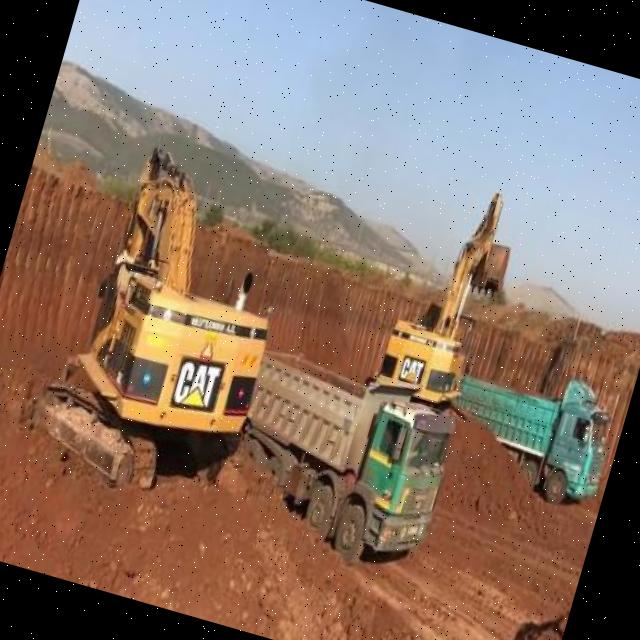Dump Truck: (212, 322, 473, 579), (434, 356, 624, 514)
Excavator: (19, 128, 312, 516), (366, 171, 527, 416)
